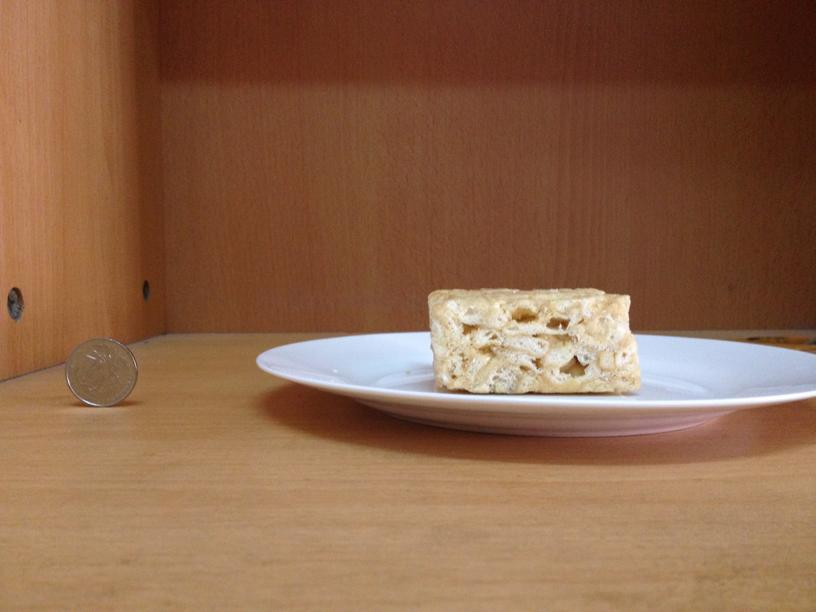coin: (60, 333, 138, 408)
sachima: (421, 279, 648, 399)
